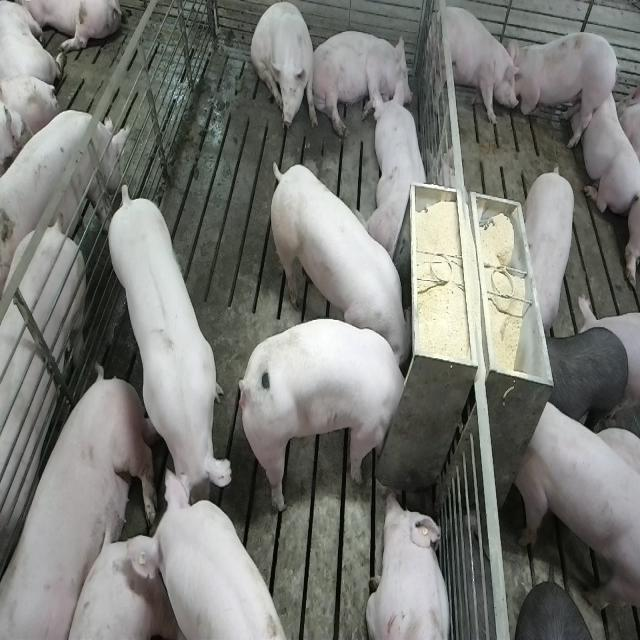Feeding: (244, 318, 416, 516), (264, 159, 412, 365)
Lateral_lying: (3, 366, 158, 640), (309, 29, 414, 139)
Sitting: (250, 2, 316, 139)
Standing: (107, 183, 236, 520), (0, 220, 89, 588), (515, 393, 638, 620), (146, 472, 290, 640), (0, 104, 124, 284), (512, 28, 618, 149), (431, 3, 520, 131), (524, 162, 578, 333), (545, 325, 627, 428)
Sternal_lying: (365, 490, 453, 640), (367, 84, 431, 264), (580, 79, 639, 215)
